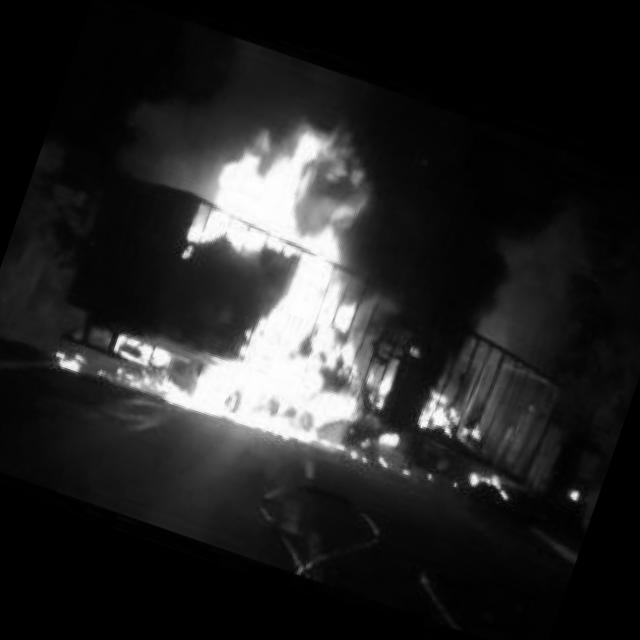fire: (128, 90, 490, 468), (415, 390, 486, 448), (464, 464, 514, 502), (50, 348, 86, 373)
